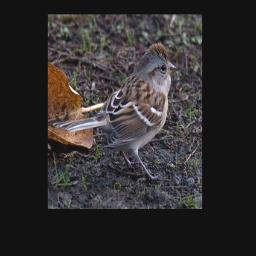Sparrow: (51, 40, 179, 184)
